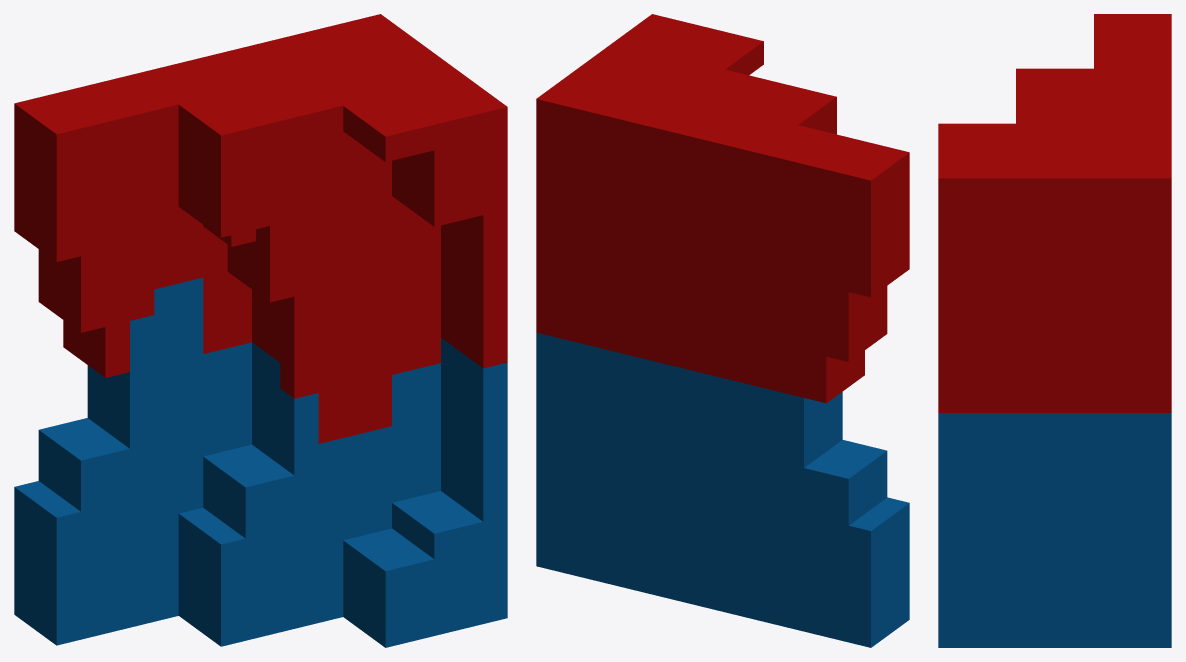
File: 2x1 - fade.obj
The picture shows the model from 3 angles, left to right: view 1: azimuth 30°, elevation 25°; view 2: azimuth 150°, elevation 25°; view 3: azimuth 270°, elevation 25°; orthographic projection. The views are drawn at different scales.
Size of the model in its own units: 15 by 20 by 9.
Materials: 1 (1 with a texture image).
